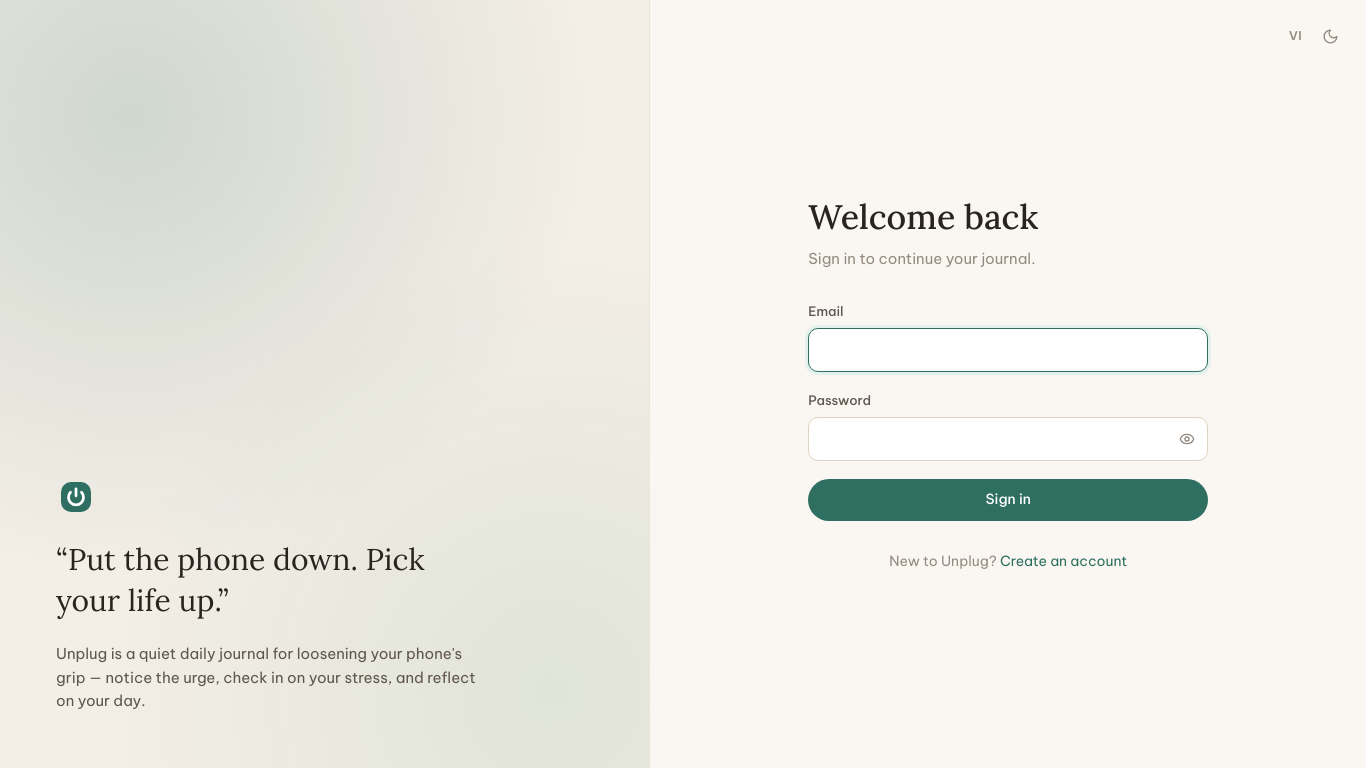
SignIn › shows a friendly message for a wrong password
Type "an@example.com" into the field labelled "Email" at point(1008, 350), box [809, 329, 1207, 371]
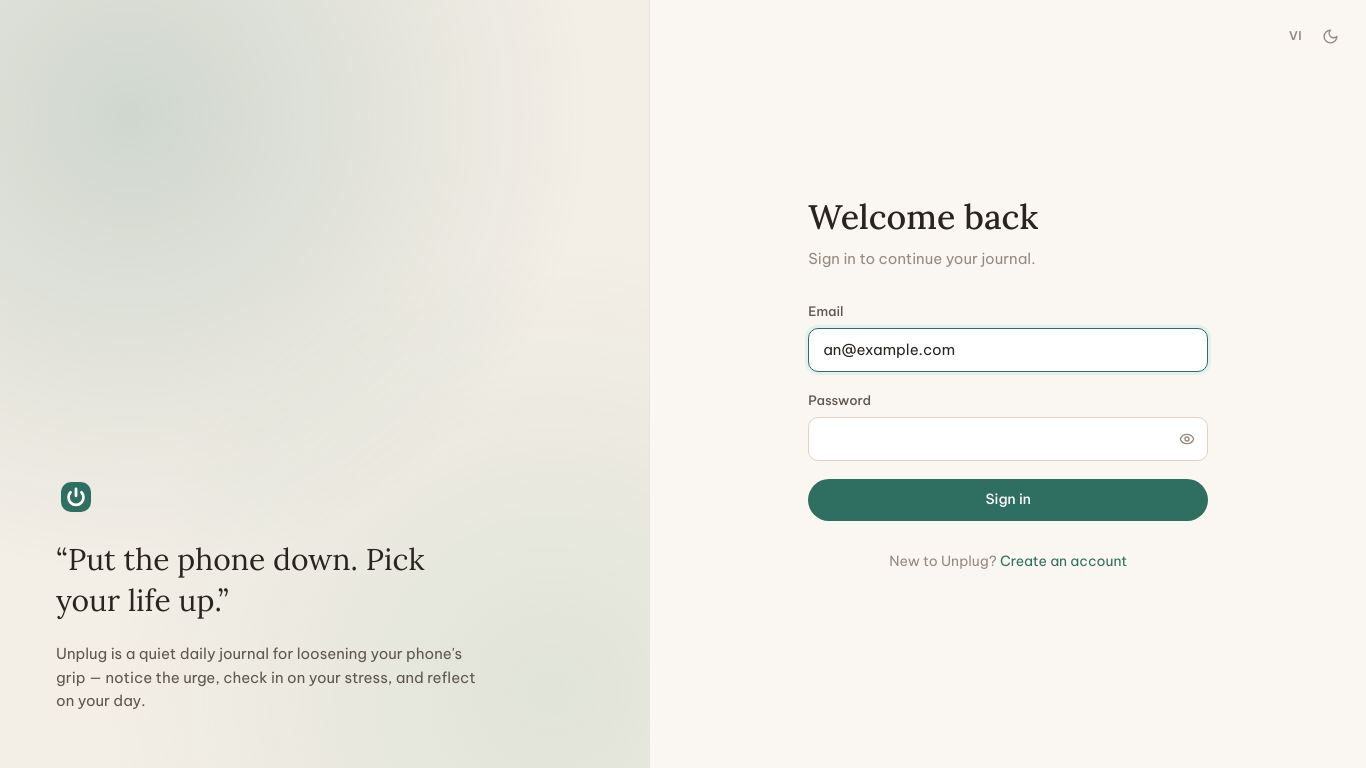
Type "Passw0rd!" into the password field labelled "Password" at point(988, 439), box [809, 418, 1167, 460]
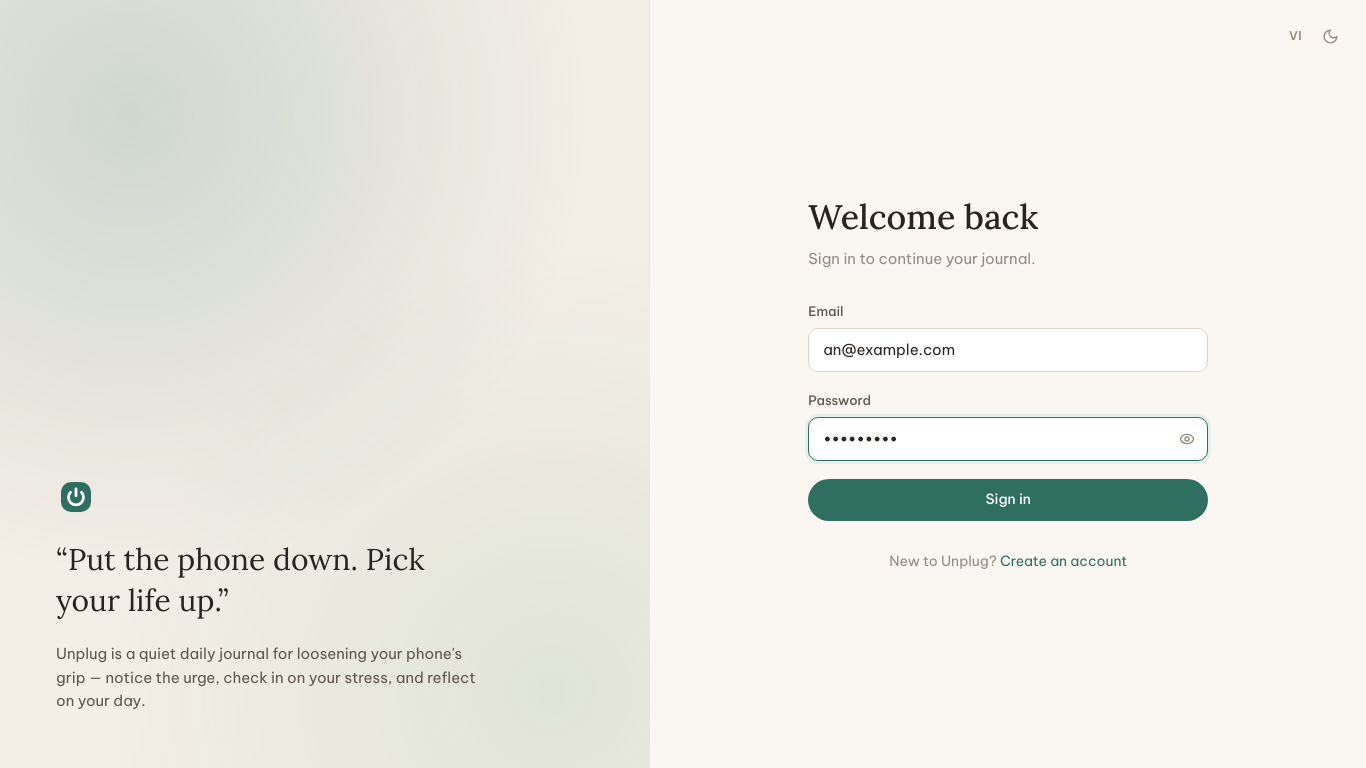
Click the button "Sign in" at point(1008, 500), box [808, 479, 1208, 521]
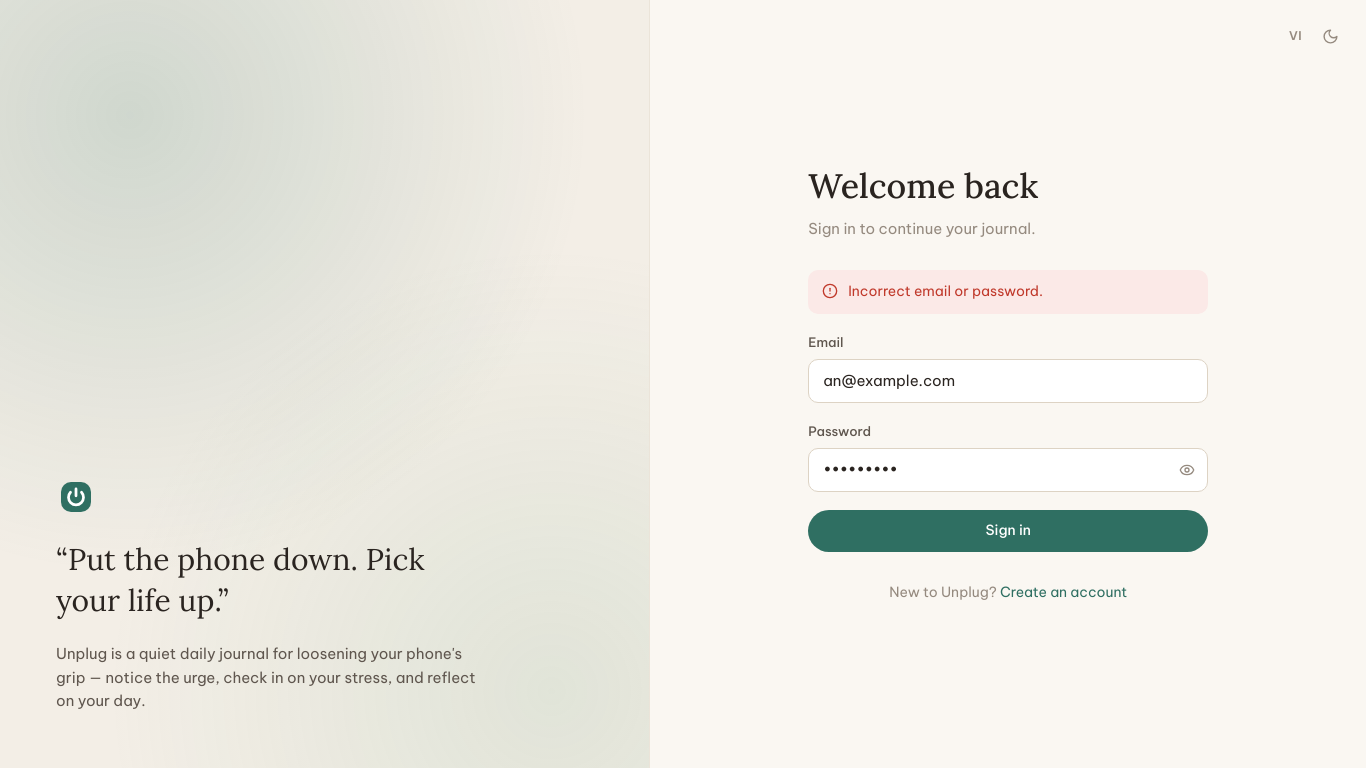
Expected: the message shows "Incorrect", [848, 282, 1043, 300]
